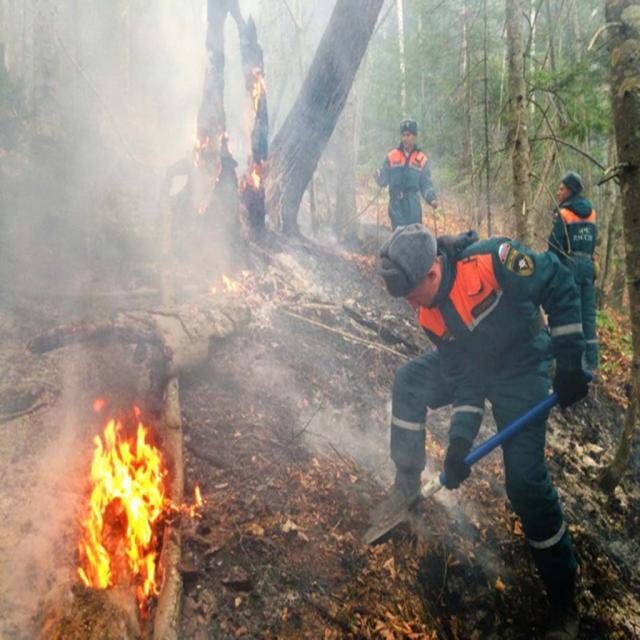Fire: (74, 418, 168, 597), (188, 128, 231, 220), (208, 266, 253, 298), (242, 158, 268, 190), (249, 69, 267, 115)
Smoke: (0, 0, 467, 640)
